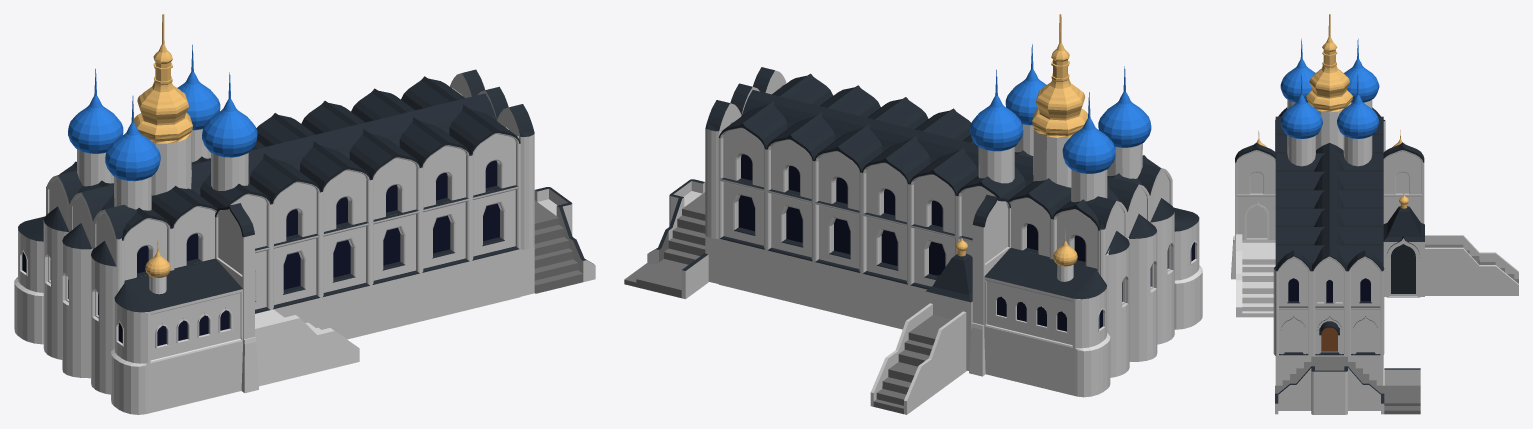
The model's file is blagsobor.gltf.
The picture shows the model from 3 angles, left to right: view 1: azimuth 30°, elevation 25°; view 2: azimuth 150°, elevation 25°; view 3: azimuth 270°, elevation 25°; orthographic projection. The views are drawn at different scales.
Parts seen in each view (by area): view 1: Base, Cube, Back, Dome, Side Stairs, Top, Stairs, Front, Sides, Big Dome, tower, Mini Dome (+1 smaller); view 2: Base, Cube, Back, Dome, Side Stairs.001, Stairs, Top, Sides, Front, Big Dome, Cube.001, tower (+1 smaller); view 3: Front, Base, Sides, Stairs, Dome, Side Stairs.001, Cube.001, Side Stairs, Top, Big Dome, Enter.001, tower.
Part boxes in pixels (x1,y1,x2,y2): Base: (59, 76, 520, 339); Cube: (14, 216, 242, 414); Back: (43, 170, 152, 394); Dome: (68, 44, 257, 210); Side Stairs: (255, 309, 359, 386); Top: (191, 93, 497, 195); Stairs: (534, 187, 595, 293); Front: (450, 69, 534, 296); Sides: (215, 203, 258, 393); Big Dome: (134, 14, 192, 143); tower: (151, 132, 191, 195); Mini Dome: (145, 240, 170, 294); Base: (718, 73, 1159, 329); Cube: (984, 207, 1202, 397); Back: (1085, 163, 1174, 377); Dome: (970, 44, 1151, 202); Side Stairs.001: (870, 303, 966, 414); Stairs: (624, 179, 708, 299); Top: (741, 90, 1033, 187); Sides: (969, 194, 1010, 376); Front: (705, 67, 786, 283); Big Dome: (1032, 14, 1087, 137); Cube.001: (925, 253, 972, 370); tower: (1033, 127, 1071, 187); Front: (1273, 250, 1384, 385); Base: (1275, 116, 1383, 385); Sides: (1231, 142, 1424, 279); Stairs: (1275, 356, 1420, 414); Dome: (1280, 38, 1379, 166); Side Stairs.001: (1425, 235, 1518, 295); Cube.001: (1383, 206, 1424, 297); Side Stairs: (1236, 234, 1275, 317); Top: (1312, 143, 1347, 265); Big Dome: (1306, 14, 1352, 112); Enter.001: (1281, 316, 1377, 354); tower: (1316, 103, 1351, 150).
Size of the model in its own units: 109 by 70.49 by 72.25.
